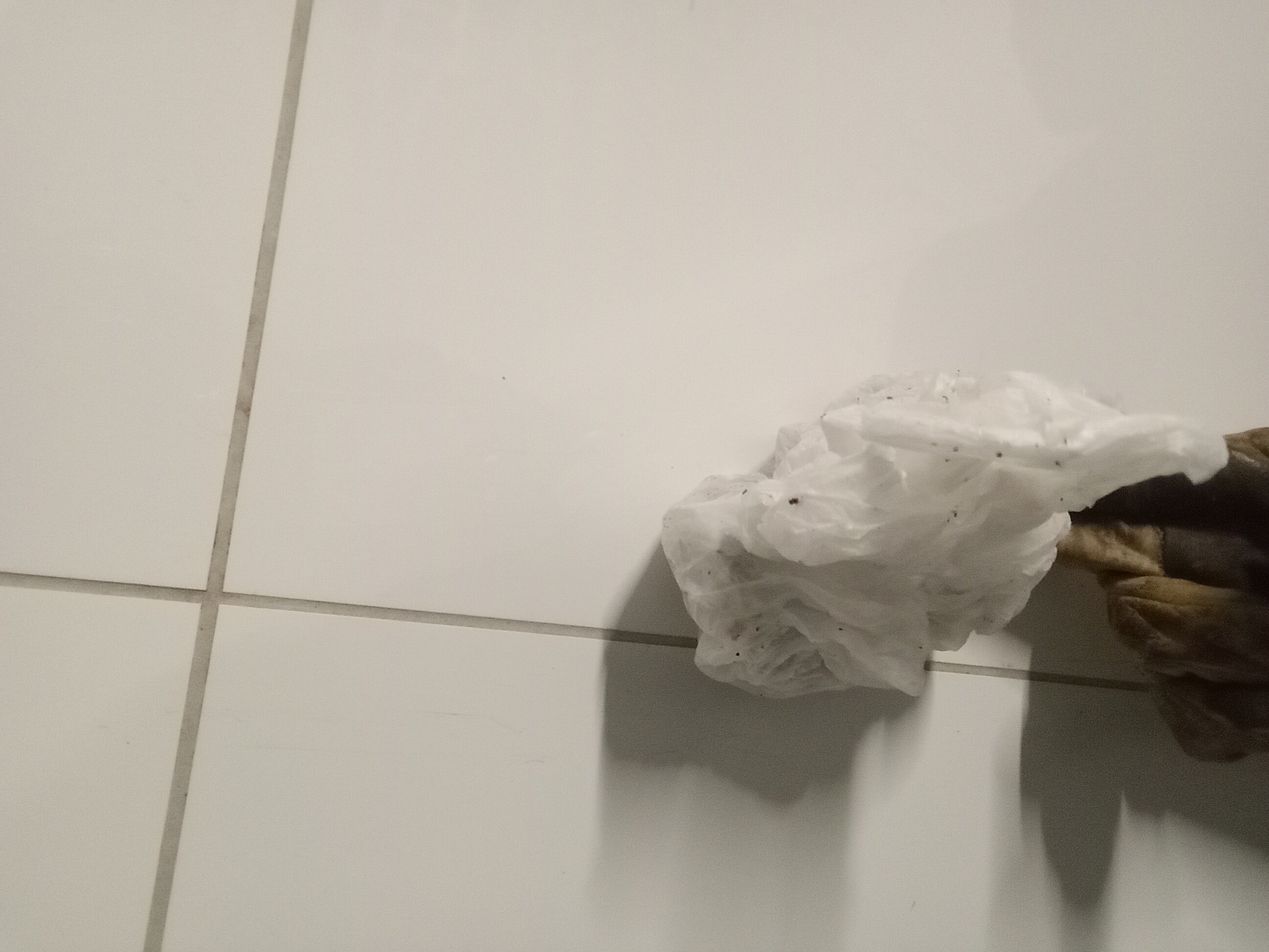Ordinario: (657, 365, 1229, 698)
